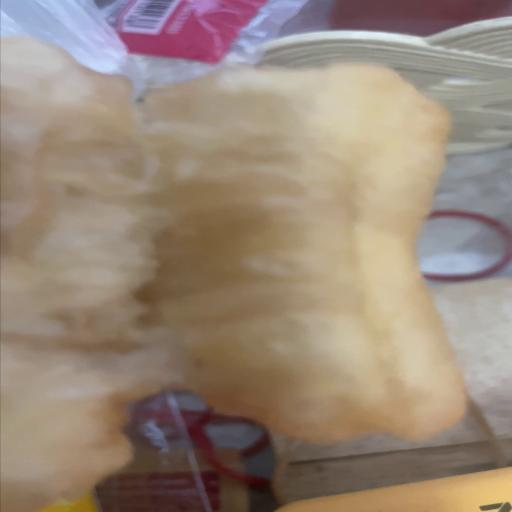street_golden_defect: (2, 62, 462, 451)
